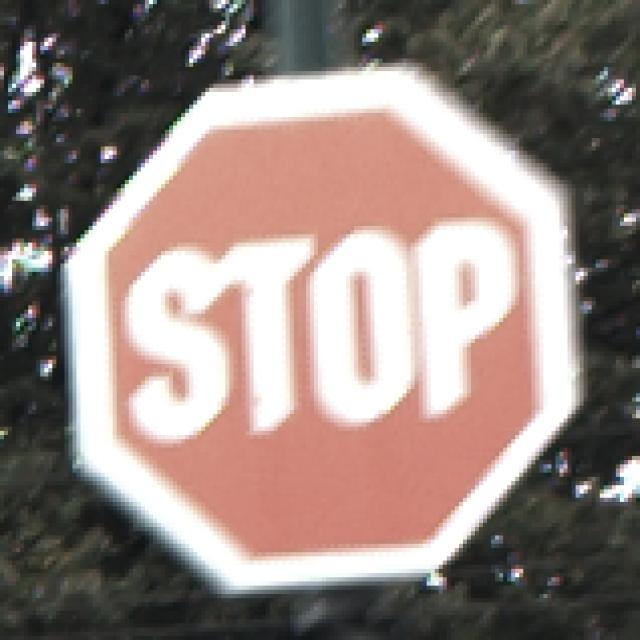STOP: (57, 60, 585, 587)
